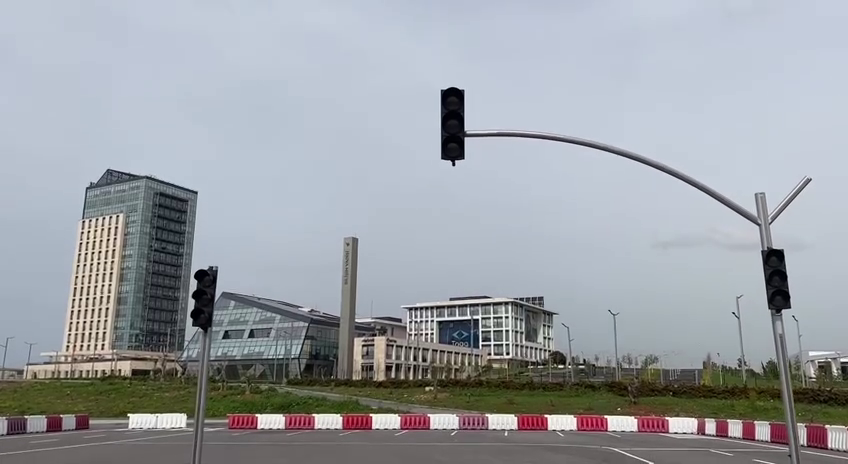trafficLight: (433, 80, 469, 166), (757, 243, 794, 316), (189, 263, 221, 334)
